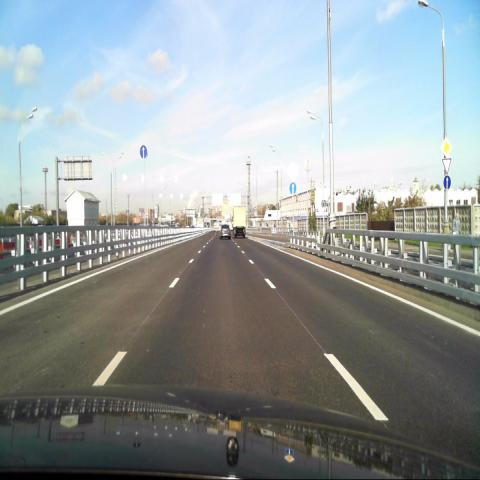2_1: (440, 137, 452, 158)
2_4: (440, 158, 452, 176)
4_1_1: (139, 143, 147, 159), (443, 175, 451, 190), (288, 180, 296, 194)
